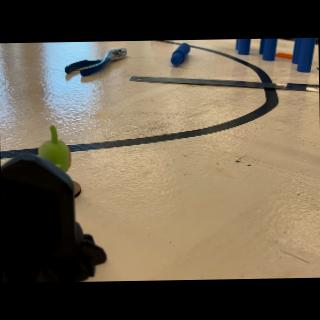teletubby: (38, 125, 70, 172)
